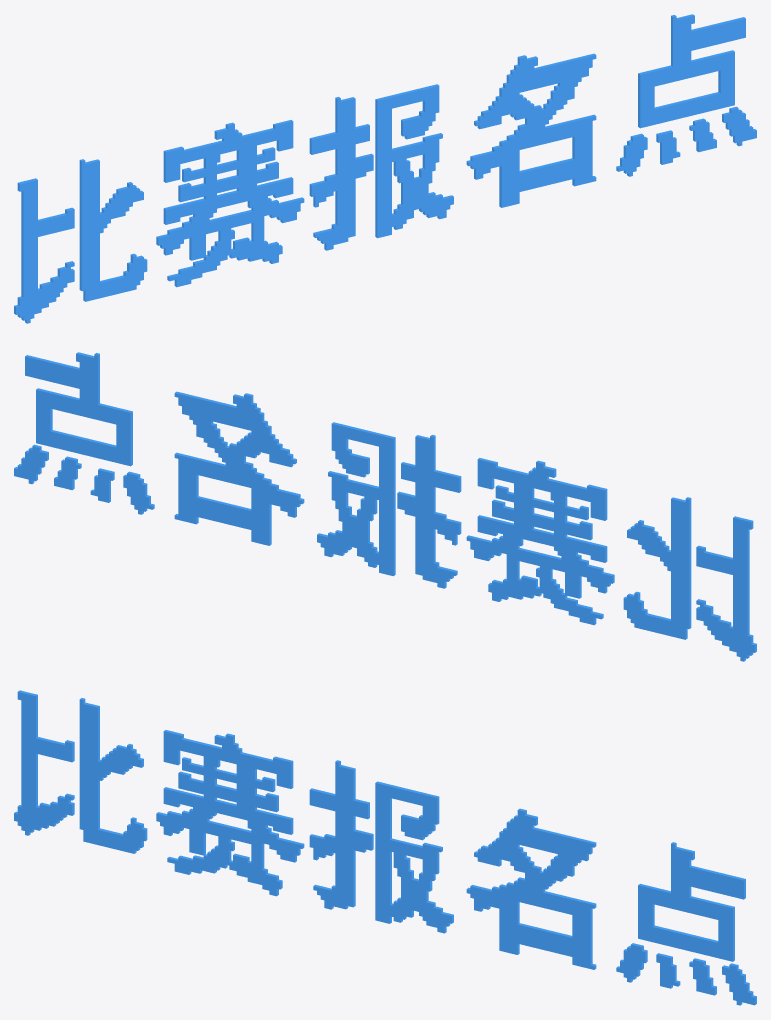
The model's file is 比赛报名.gltf.
3 renders of one model, top to bottom at view 1: azimuth 30°, elevation 25°; view 2: azimuth 150°, elevation 25°; view 3: azimuth 330°, elevation 25°, orthographic.
Parts seen in each view (by area): view 1: f*f i"-1; view 2: f*f i"-1; view 3: f*f i"-1.
Boxes of the visible parts, x1,y1,x2,y2 form: f*f i"-1: (14, 14, 756, 323); f*f i"-1: (14, 352, 756, 661); f*f i"-1: (14, 690, 756, 1005).
Size of the model in its own units: 203 by 39 by 1.
1 material, 1 textured.
